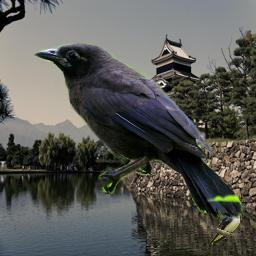Crow: (34, 42, 244, 220)
Swallow: (208, 204, 242, 246)
